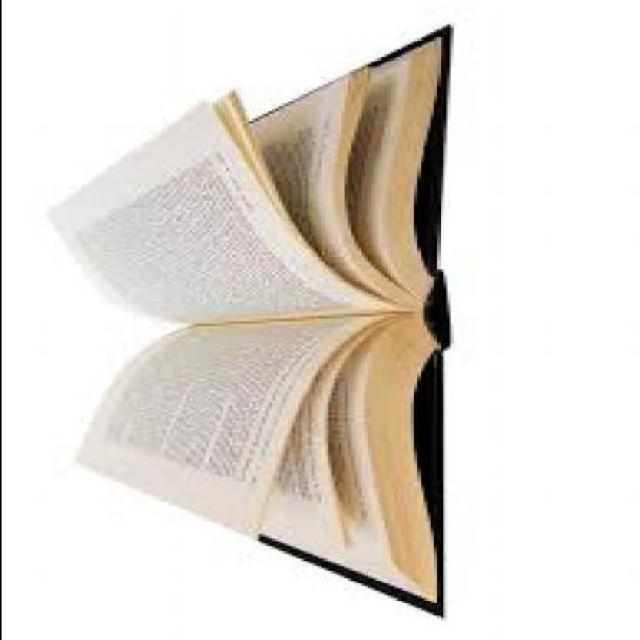PAPER: (39, 27, 446, 622), (40, 102, 412, 326), (69, 316, 429, 547)
